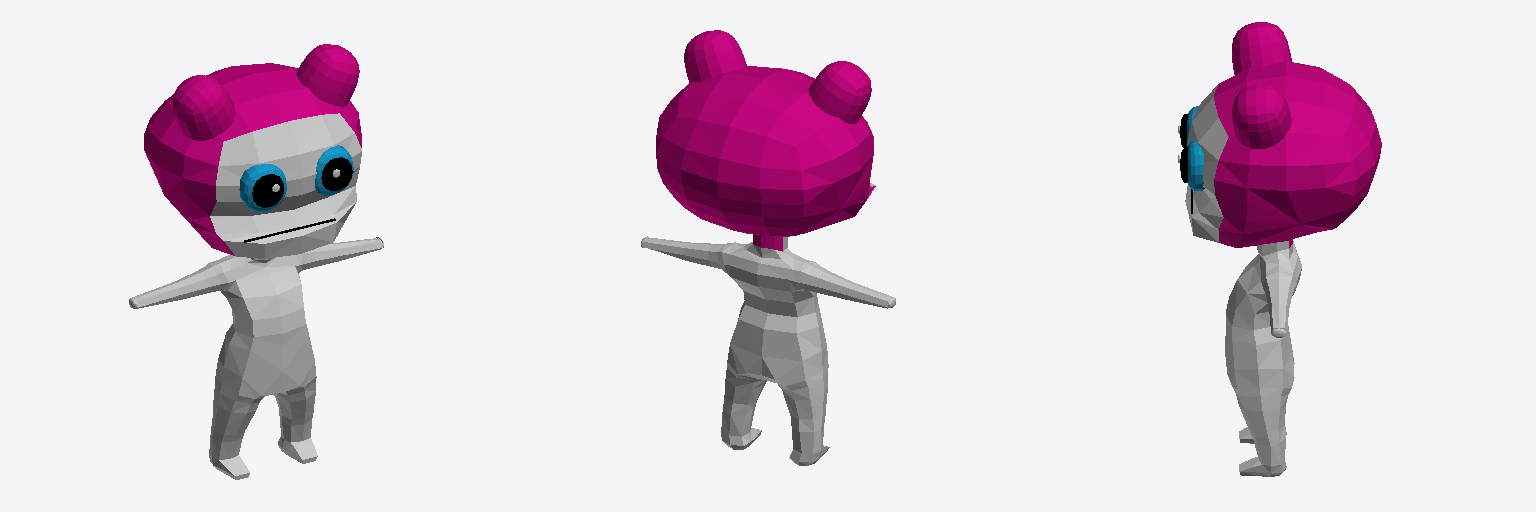
File: meap.obj
3 renders of one model, left to right at view 1: azimuth 30°, elevation 25°; view 2: azimuth 150°, elevation 25°; view 3: azimuth 270°, elevation 25°, orthographic.
Visible parts, largest first — view 1: pCube8, Cube.005_Cube.007, Cube.002_Cube.004, Cube.003_Cube.005; view 2: pCube8, Cube.005_Cube.007; view 3: pCube8, Cube.005_Cube.007, Cube.002_Cube.004.
Boxes of the visible parts, x1,y1,x2,y2 form: pCube8: [132, 63, 382, 479]; Cube.005_Cube.007: [172, 44, 359, 140]; Cube.002_Cube.004: [239, 145, 353, 211]; Cube.003_Cube.005: [252, 157, 352, 207]; pCube8: [642, 66, 891, 465]; Cube.005_Cube.007: [684, 30, 871, 123]; pCube8: [1185, 61, 1381, 476]; Cube.005_Cube.007: [1232, 22, 1291, 148]; Cube.002_Cube.004: [1187, 106, 1204, 190].
Size of the model in its own units: 10.15 by 15.42 by 7.13.